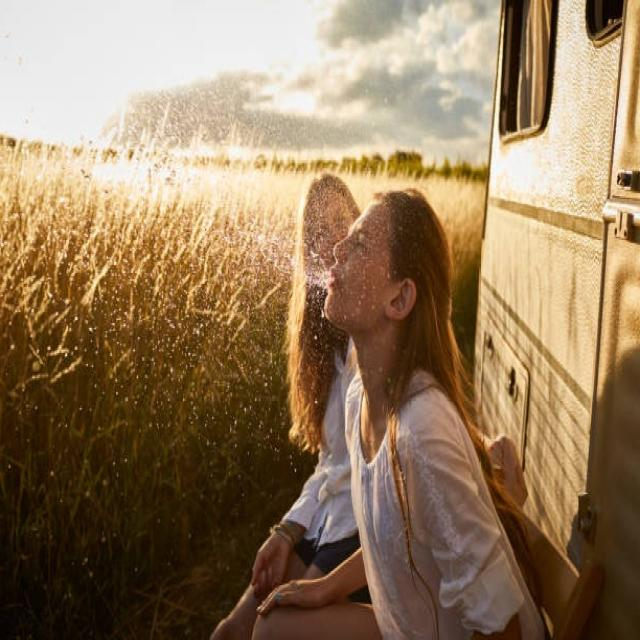Spitting: (259, 183, 451, 484)
